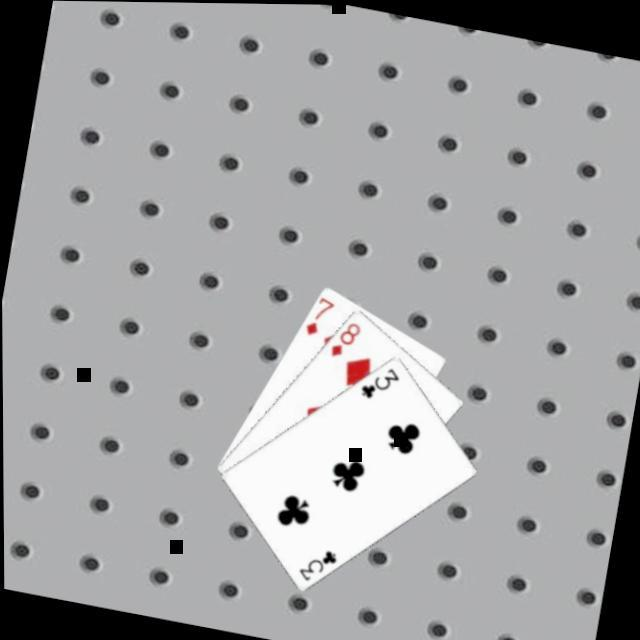3C: (290, 541, 338, 590), (353, 359, 401, 407)
7D: (297, 291, 335, 342)
8D: (322, 315, 361, 363)
